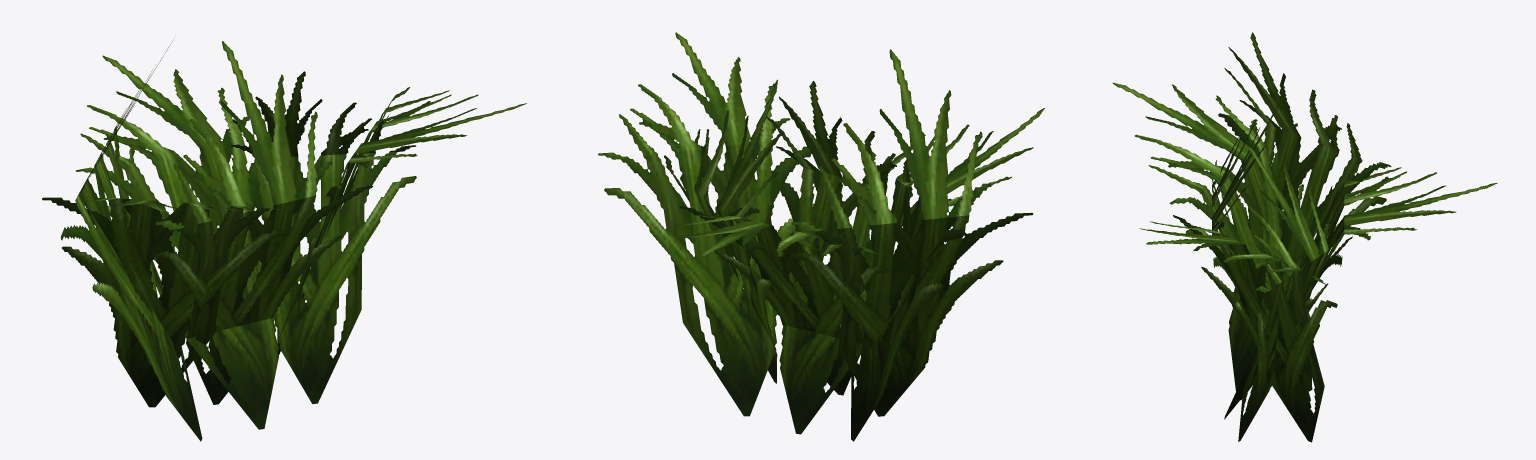
The model's file is naflbu8.dae.
The picture shows the model from 3 angles, left to right: view 1: azimuth 30°, elevation 25°; view 2: azimuth 150°, elevation 25°; view 3: azimuth 270°, elevation 25°; orthographic projection. The views are drawn at different scales.
Parts seen in each view (by area): view 1: crown; view 2: crown; view 3: crown.
Part boxes in pixels (x1=…): crown: x1=42, y1=41, x2=526, y2=441; crown: x1=598, y1=32, x2=1044, y2=441; crown: x1=1112, y1=32, x2=1497, y2=442.
Bounding box in the file's own units: 1.52 × 1.38 × 1.39.
1 material, 1 textured.
